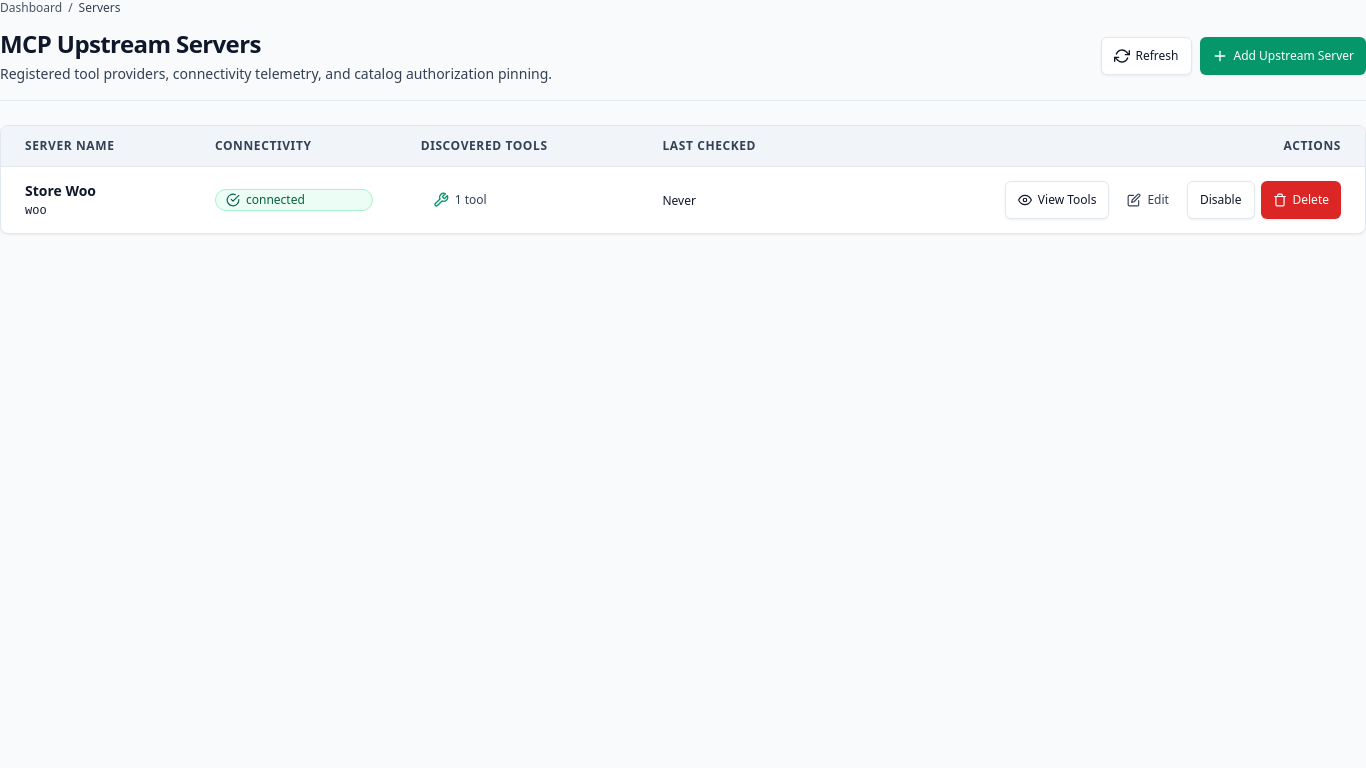
Test: Dashboard Component Tests › renders tool descriptions containing <script> safely as plain text
The width and height of the screenshot is (1366, 768).
Click the button "View Tools".
click(1057, 200)  # box 1005,181 -> 1109,219
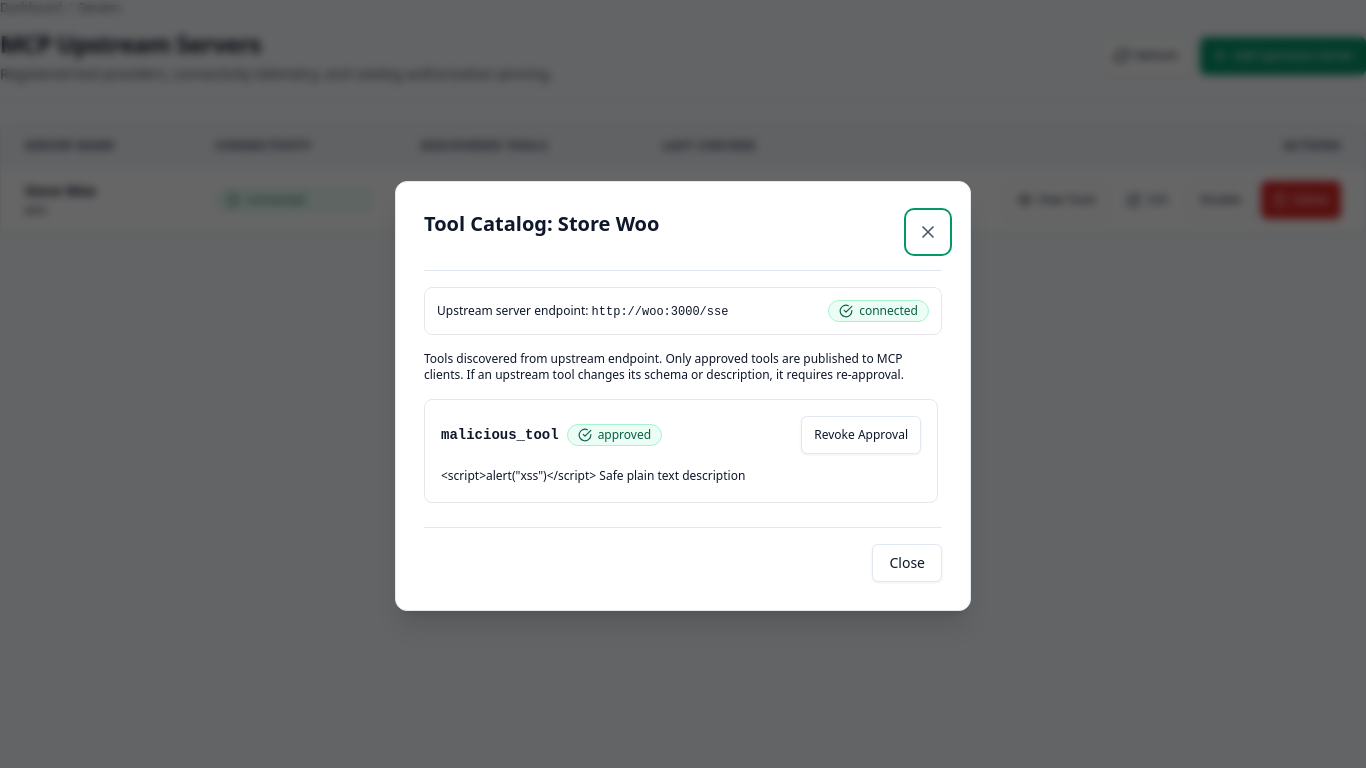
expect the text "<script>alert(\"xss\")</script> Safe plain text description" is shown: met, box 441,467 -> 745,484
